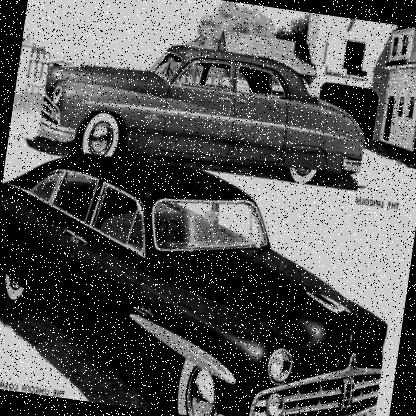Car: (0, 136, 406, 415), (36, 28, 373, 192)
